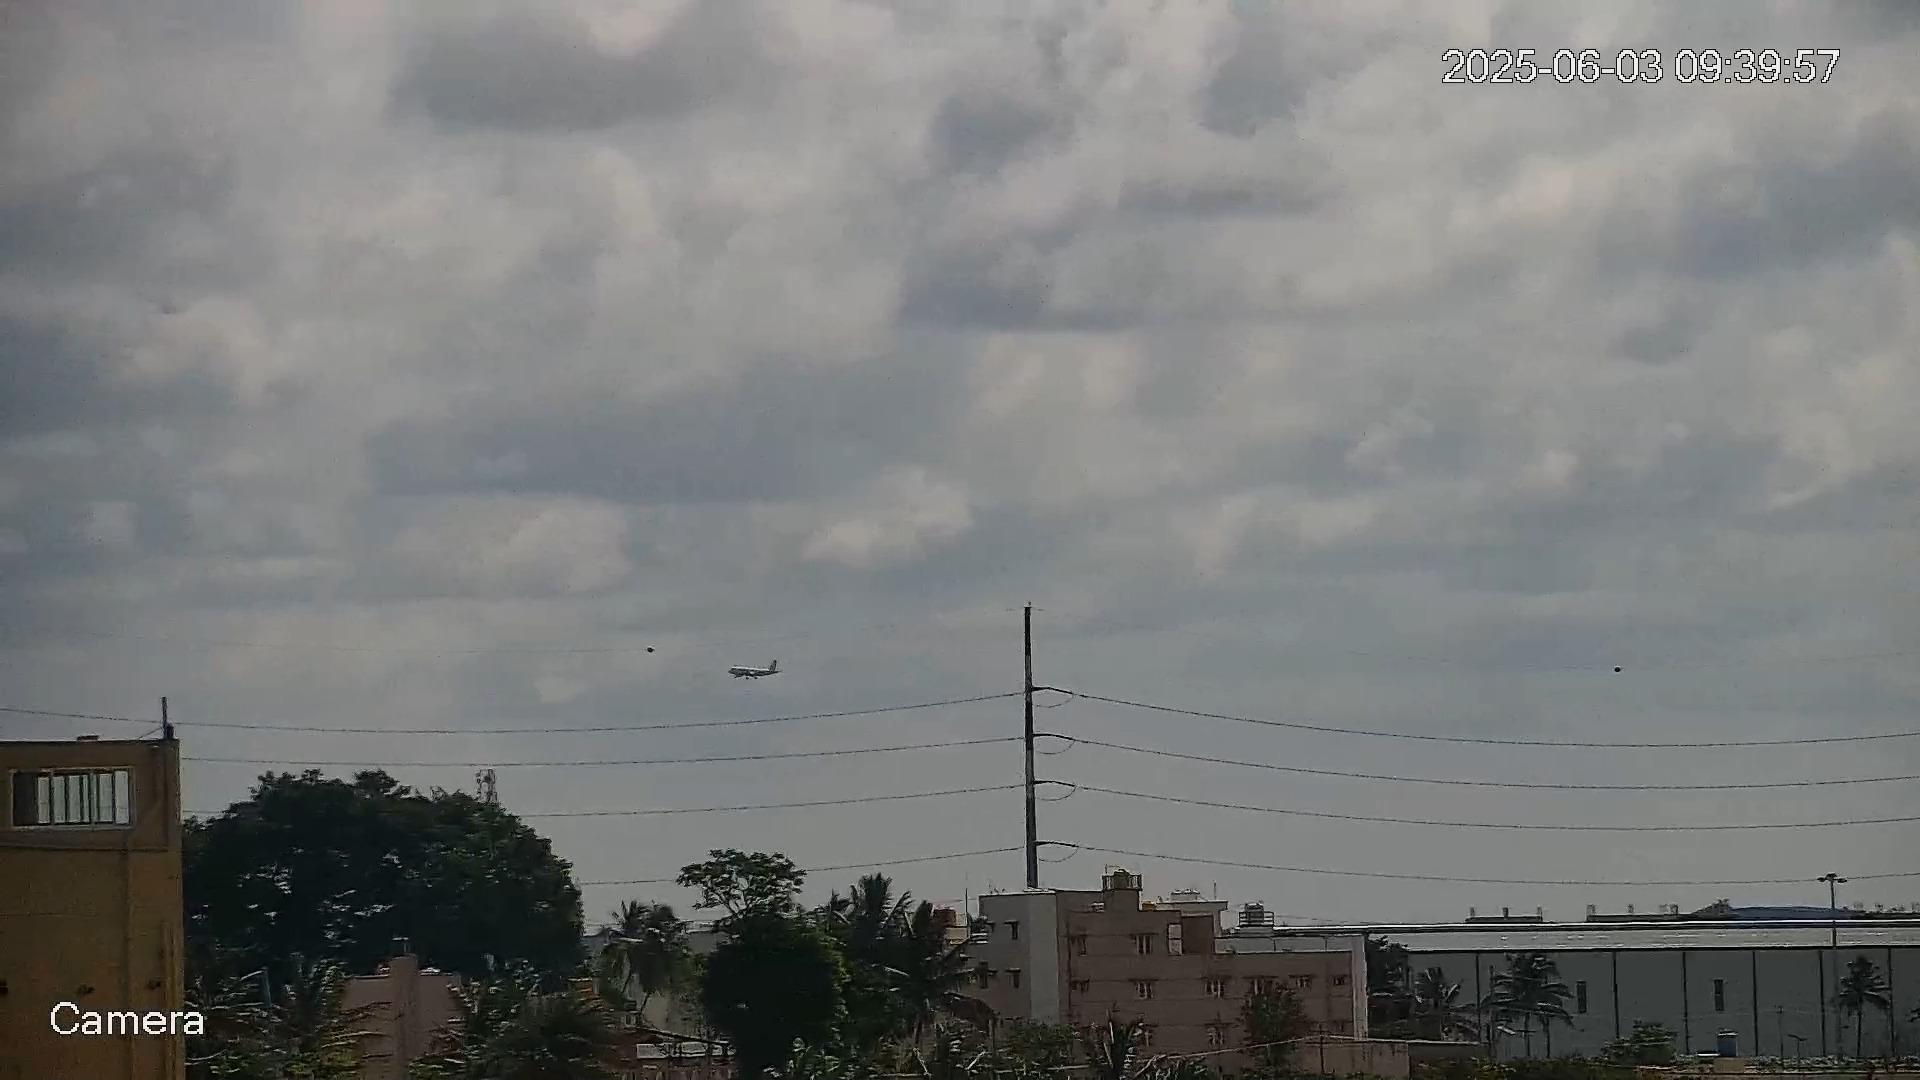Aircraft: (725, 658, 783, 680)
